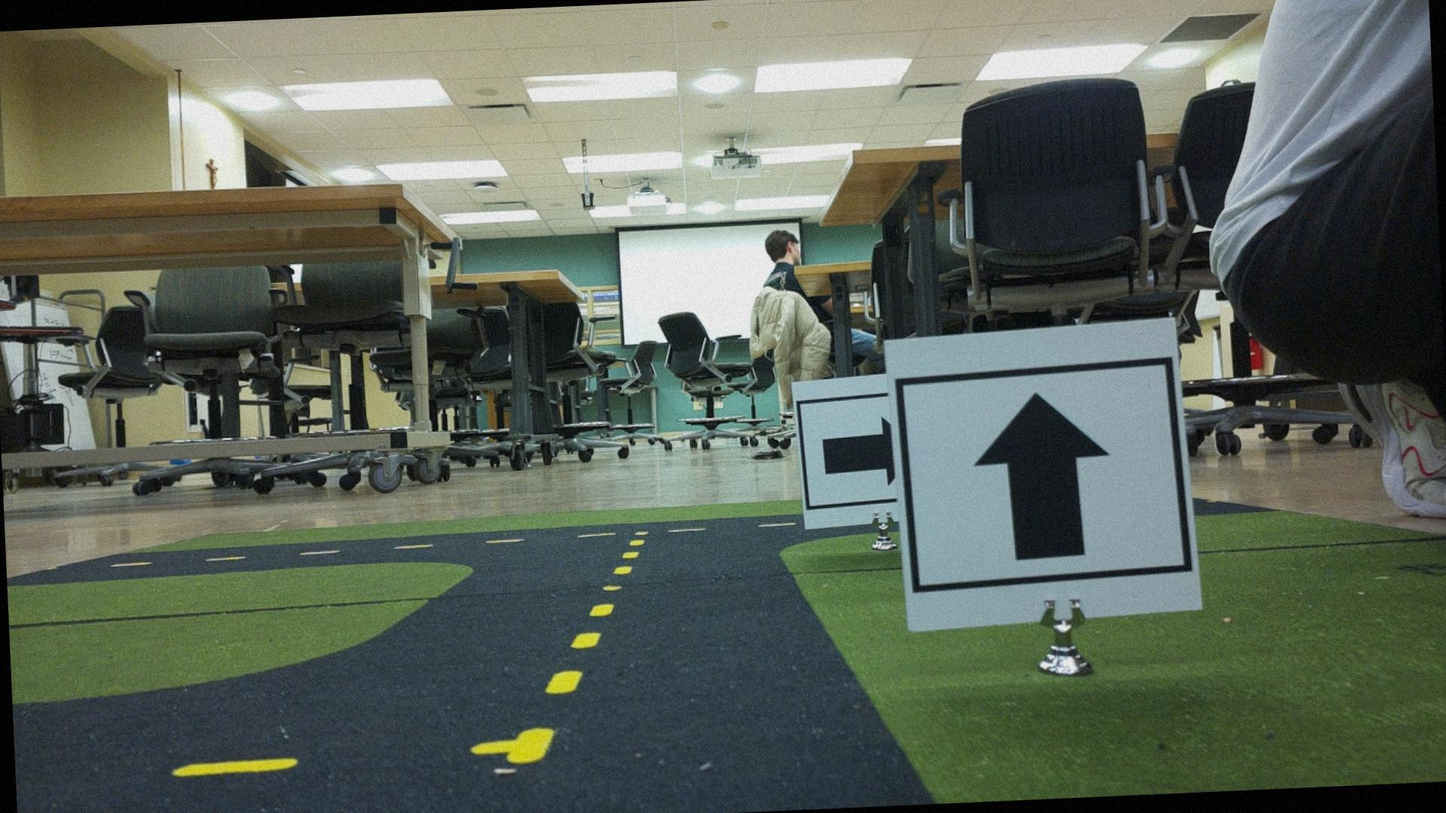gostraight: (890, 323, 1185, 636)
yellowline: (503, 529, 652, 766)
